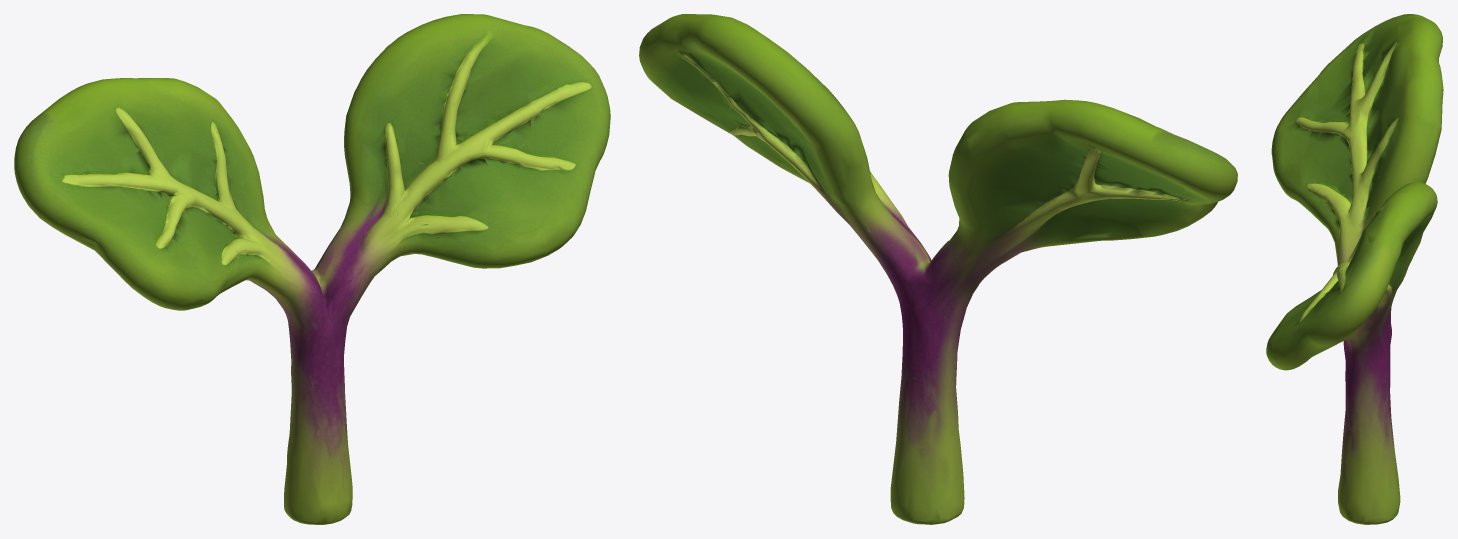
Rendered from eggplant-sprout.glb.
The picture shows the model from 3 angles, left to right: view 1: azimuth 30°, elevation 25°; view 2: azimuth 150°, elevation 25°; view 3: azimuth 270°, elevation 25°; orthographic projection. The views are drawn at different scales.
Size of the model in its own units: 1.9 by 1.45 by 0.5753.
1 material, 1 textured.
